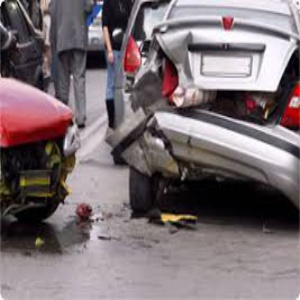bonnet: (152, 14, 295, 93)
bumper: (109, 108, 249, 185)
